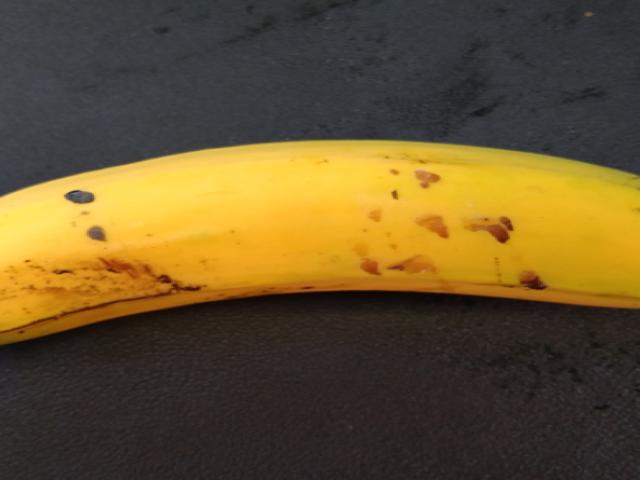ripe: (9, 128, 639, 368)
